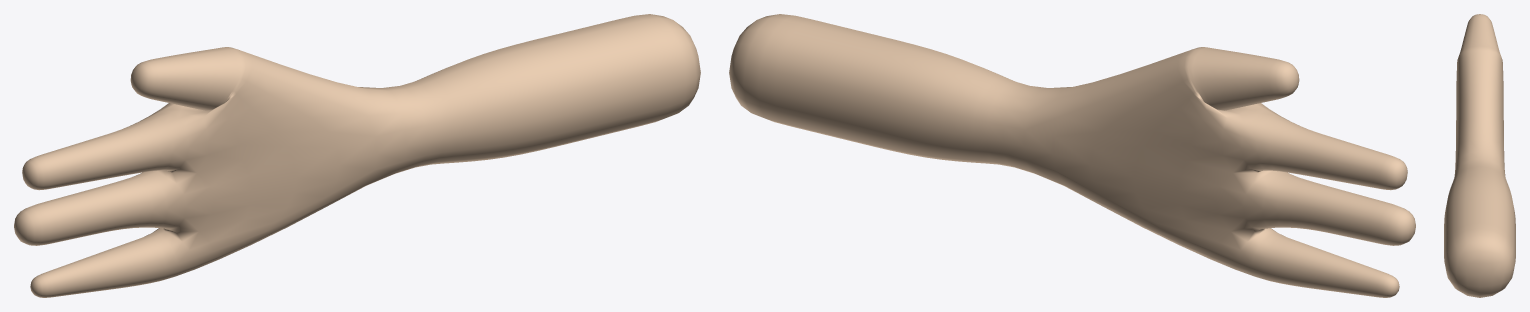
File: hand.gltf
The picture shows the model from 3 angles, left to right: view 1: azimuth 30°, elevation 25°; view 2: azimuth 150°, elevation 25°; view 3: azimuth 270°, elevation 25°; orthographic projection. The views are drawn at different scales.
Visible parts, largest first — view 1: Cube; view 2: Cube; view 3: Cube.
Boxes of the visible parts, left/top/right/bottom form: Cube: left=14, top=14, right=700, bottom=297; Cube: left=729, top=14, right=1415, bottom=297; Cube: left=1444, top=14, right=1515, bottom=297.
Bounding box in the file's own units: 6.6 × 2.04 × 0.9167.
